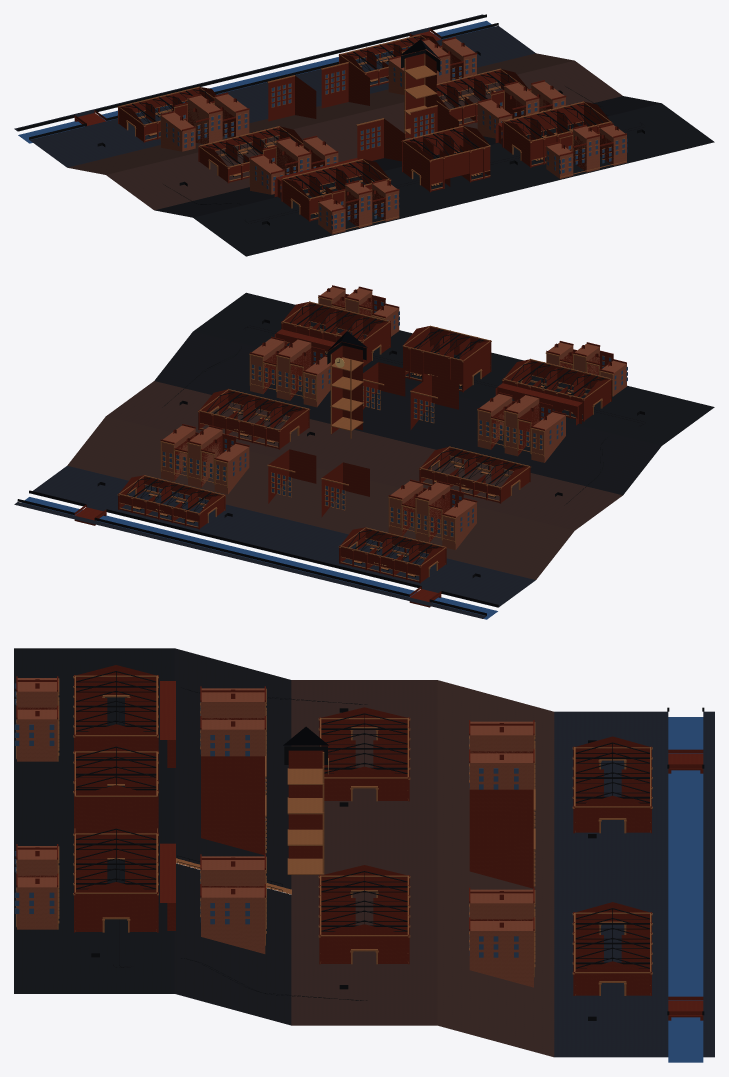
Rendered from vesper-viaduct.glb.
3 views of the same model, one above another, from view 1: azimuth 30°, elevation 25°; view 2: azimuth 150°, elevation 25°; view 3: azimuth 270°, elevation 25° (orthographic). The views are drawn at different scales.
Visible parts, largest first — view 1: batch-brick, batch-asphalt, batch-cobbles, batch-plaster, batch-quay, batch-sandstone, batch-iron, batch-glass, batch-water; view 2: batch-brick, batch-cobbles, batch-asphalt, batch-plaster, batch-quay, batch-sandstone, batch-iron, batch-glass, batch-water; view 3: batch-brick, batch-cobbles, batch-asphalt, batch-quay, batch-plaster, batch-iron, batch-water, batch-sandstone, batch-glass.
Part boxes in pixels (<box>): batch-brick: <box>74,28,626,227</box>; batch-asphalt: <box>155,96,714,256</box>; batch-cobbles: <box>68,53,622,210</box>; batch-plaster: <box>161,38,626,234</box>; batch-quay: <box>14,14,535,167</box>; batch-sandstone: <box>117,34,626,232</box>; batch-iron: <box>17,14,644,225</box>; batch-glass: <box>166,58,627,229</box>; batch-water: <box>18,20,494,143</box>; batch-brick: <box>74,285,626,607</box>; batch-cobbles: <box>67,381,622,579</box>; batch-asphalt: <box>154,292,714,495</box>; batch-plaster: <box>161,287,626,550</box>; batch-quay: <box>14,465,535,618</box>; batch-sandstone: <box>117,296,613,581</box>; batch-iron: <box>17,304,645,615</box>; batch-glass: <box>163,300,627,536</box>; batch-water: <box>22,497,497,619</box>; batch-brick: <box>16,665,703,1020</box>; batch-cobbles: <box>291,680,554,1057</box>; batch-asphalt: <box>14,648,291,1025</box>; batch-quay: <box>554,711,714,1057</box>; batch-plaster: <box>17,678,533,987</box>; batch-iron: <box>76,671,704,1020</box>; batch-water: <box>668,717,703,1062</box>; batch-sandstone: <box>16,675,652,995</box>; batch-glass: <box>14,683,518,957</box>.
Size of the model in its own units: 280 by 73 by 240.
Materials: 11 (8 with a texture image).
